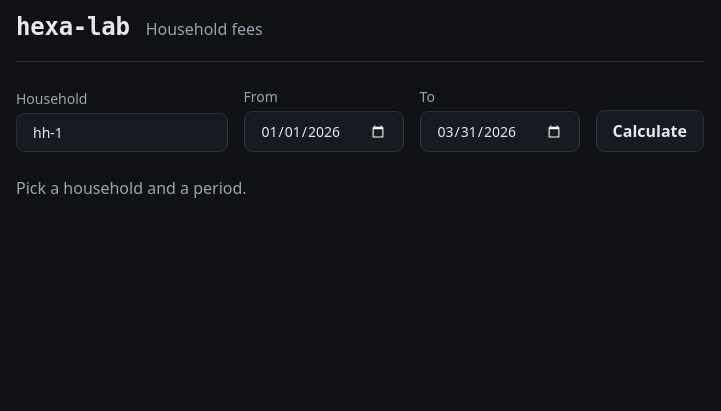
Test case: the button is disabled while the request is pending and a second click does nothing
This screenshot has width=721, height=411.
Click the button "Calculate" at (650, 131), box [596,110,704,152]
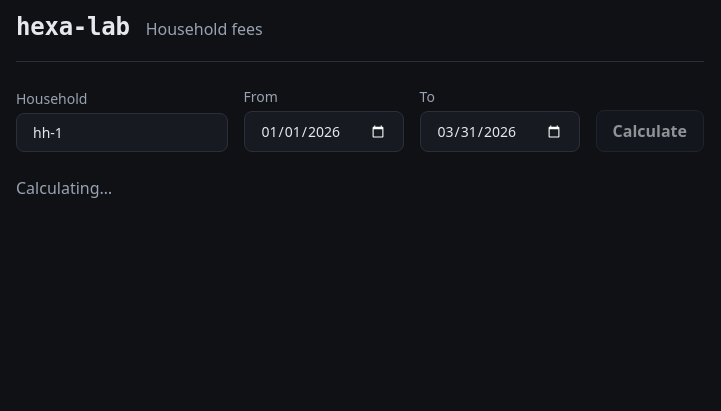
Expected: the button "Calculate" is disabled
Click the button "Calculate" at (650, 131), box [596,110,704,152]
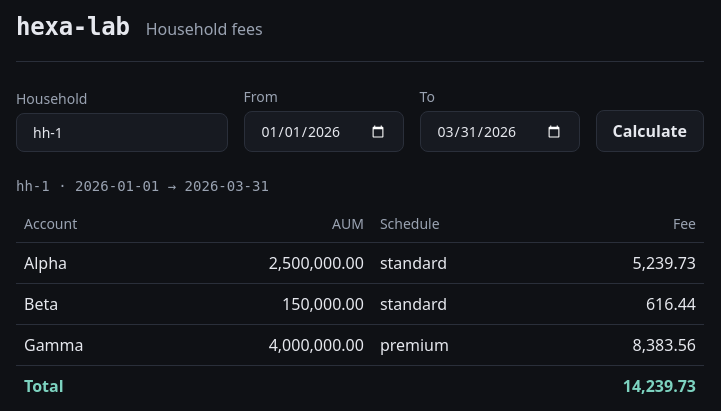
Expected: the button "Calculate" is enabled, [596,110,704,152]
